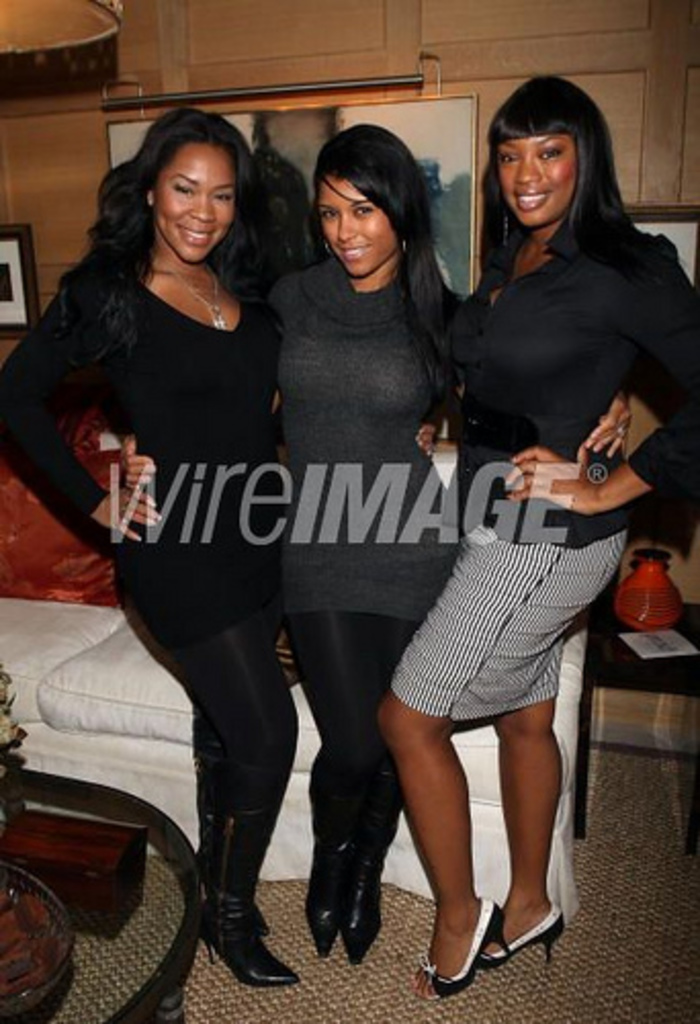Person: (0, 107, 437, 991), (266, 125, 634, 967), (379, 72, 700, 1006)
